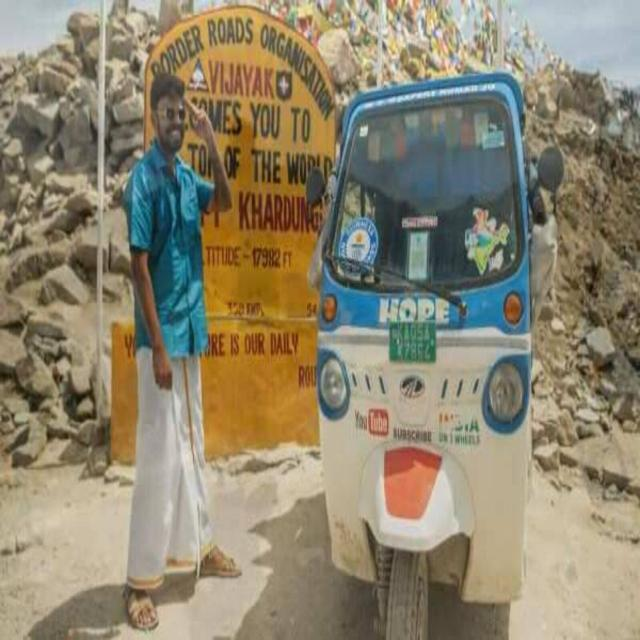autorickshaw: (308, 71, 564, 639)
